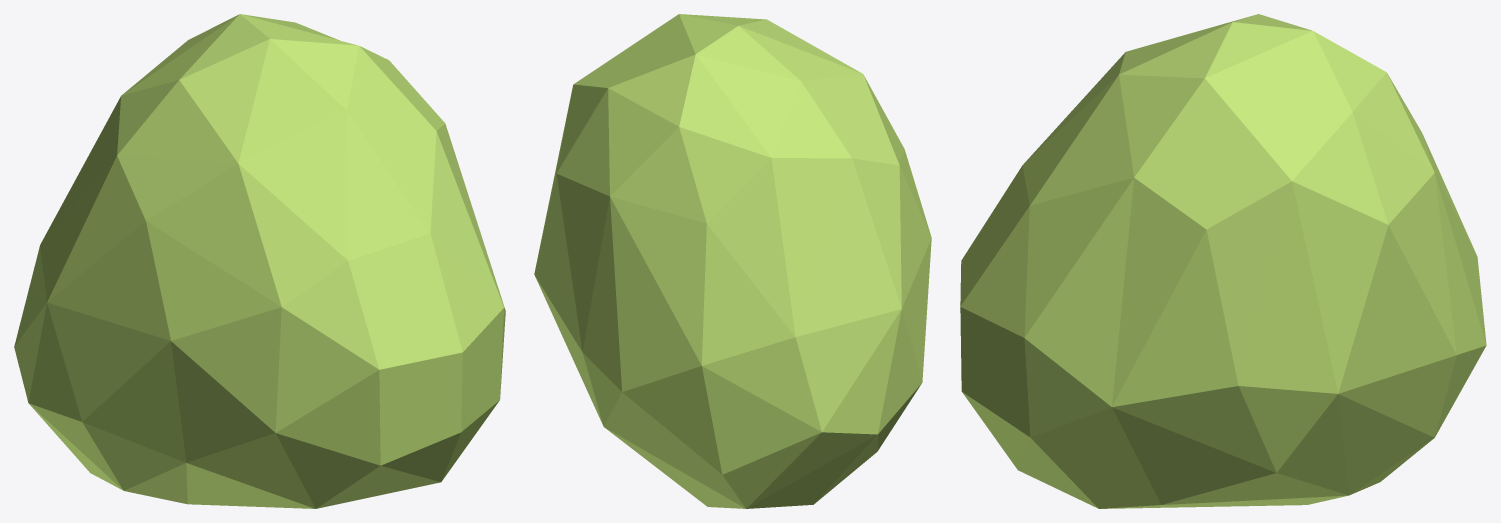
File: Bush_f_m_04.fbx
3 views of the same model, side by side, from view 1: azimuth 30°, elevation 25°; view 2: azimuth 150°, elevation 25°; view 3: azimuth 270°, elevation 25° (orthographic). The views are drawn at different scales.
Parts seen in each view (by area): view 1: Bush_f_m_04; view 2: Bush_f_m_04; view 3: Bush_f_m_04.
Boxes of the visible parts, bbox=[...] form: Bush_f_m_04: bbox=[14, 14, 505, 508]; Bush_f_m_04: bbox=[534, 14, 931, 508]; Bush_f_m_04: bbox=[960, 14, 1486, 508].
Bounding box in the file's own units: 151 × 170 × 167.
